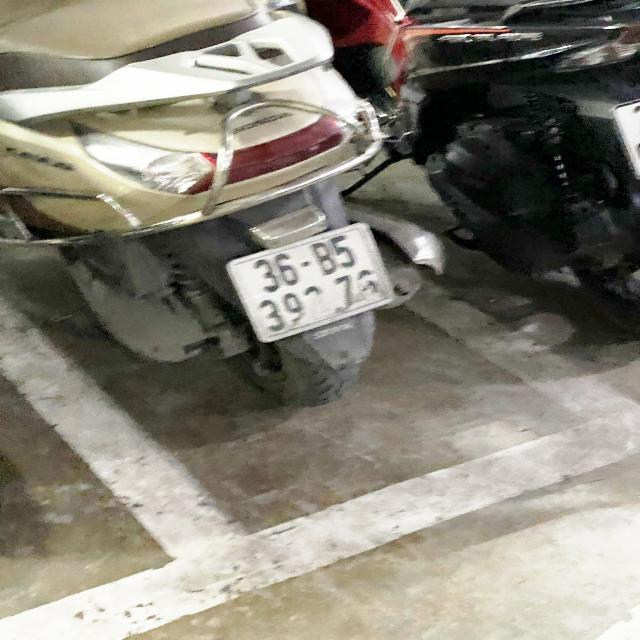license_plate: (216, 216, 402, 353)
